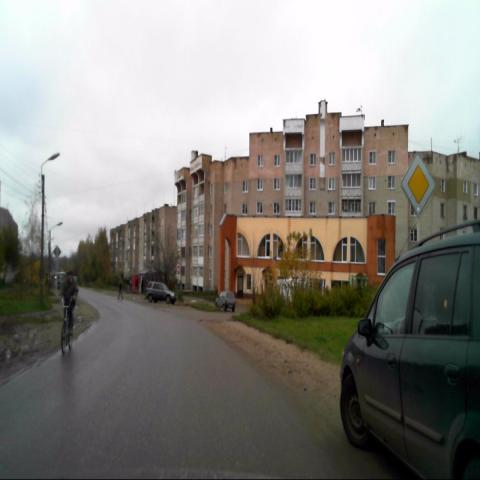2_1: (400, 152, 435, 219)
